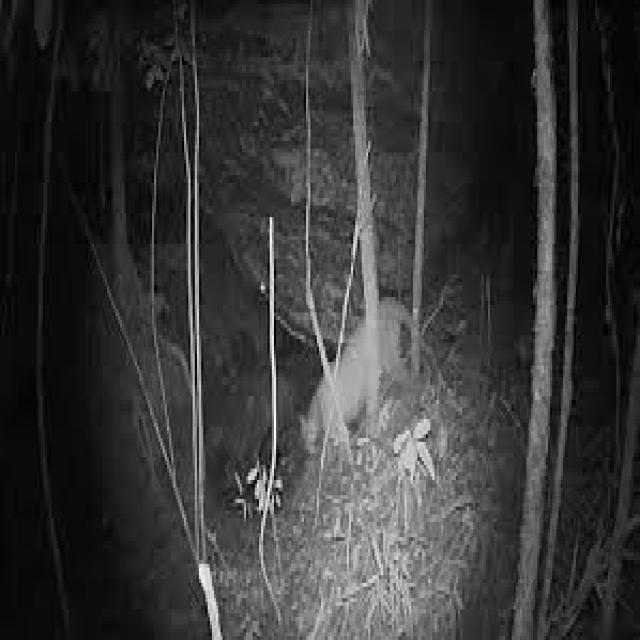Jaguar: (291, 308, 417, 449)
